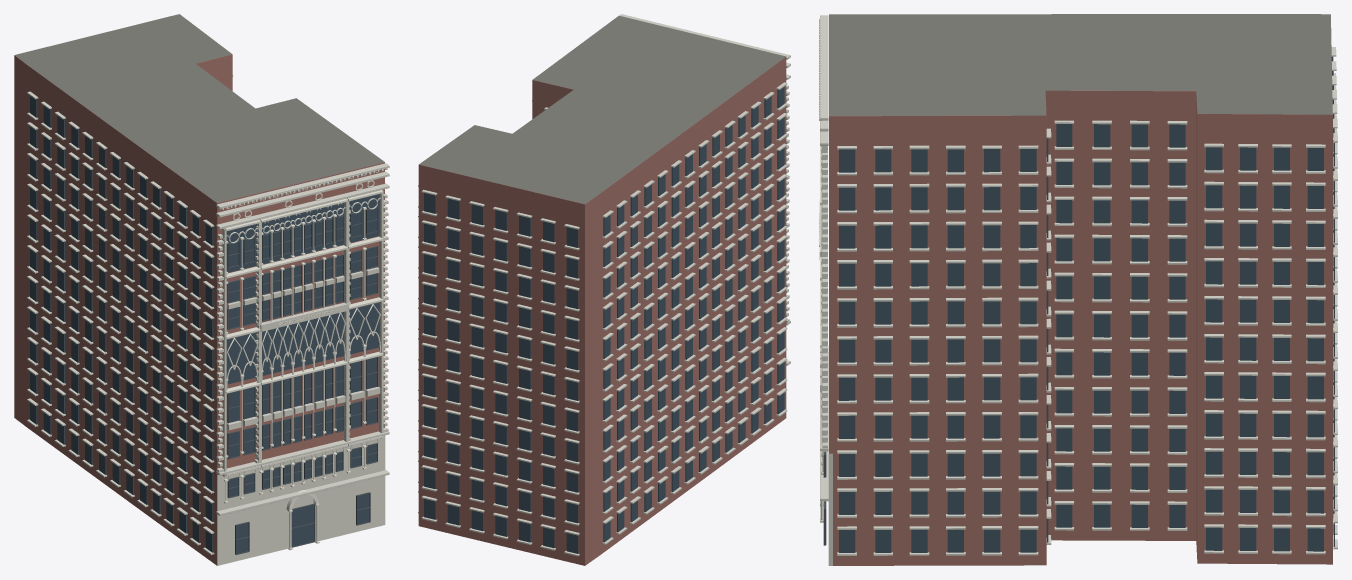
Rendered from athletic_association.glb.
3 renders of one model, left to right at view 1: azimuth 30°, elevation 25°; view 2: azimuth 150°, elevation 25°; view 3: azimuth 270°, elevation 25°, orthographic. The views are drawn at different scales.
Visible parts, largest first — view 1: Venetian red brick, Deep blue glazing, Carved pale limestone, Roof membrane and joints, Raised limestone tracery, Dark bronze window sashes; view 2: Venetian red brick, Deep blue glazing, Roof membrane and joints, Carved pale limestone; view 3: Venetian red brick, Deep blue glazing, Roof membrane and joints, Carved pale limestone, Raised limestone tracery.
Part boxes in pixels (x1,y1,x2,y2): Venetian red brick: (14, 54, 384, 565); Deep blue glazing: (30, 96, 379, 553); Carved pale limestone: (27, 75, 389, 565); Roof membrane and joints: (14, 14, 384, 202); Raised limestone tracery: (221, 166, 387, 550); Dark bronze window sashes: (227, 207, 378, 554); Venetian red brick: (418, 57, 786, 565); Deep blue glazing: (424, 86, 784, 553); Roof membrane and joints: (419, 15, 785, 204); Carved pale limestone: (418, 14, 790, 556); Venetian red brick: (829, 90, 1332, 565); Deep blue glazing: (825, 56, 1334, 552); Roof membrane and joints: (829, 14, 1332, 115); Carved pale limestone: (819, 15, 1337, 565); Raised limestone tracery: (819, 18, 824, 522).
Size of the model in its own units: 26.4 by 52.02 by 54.38.
